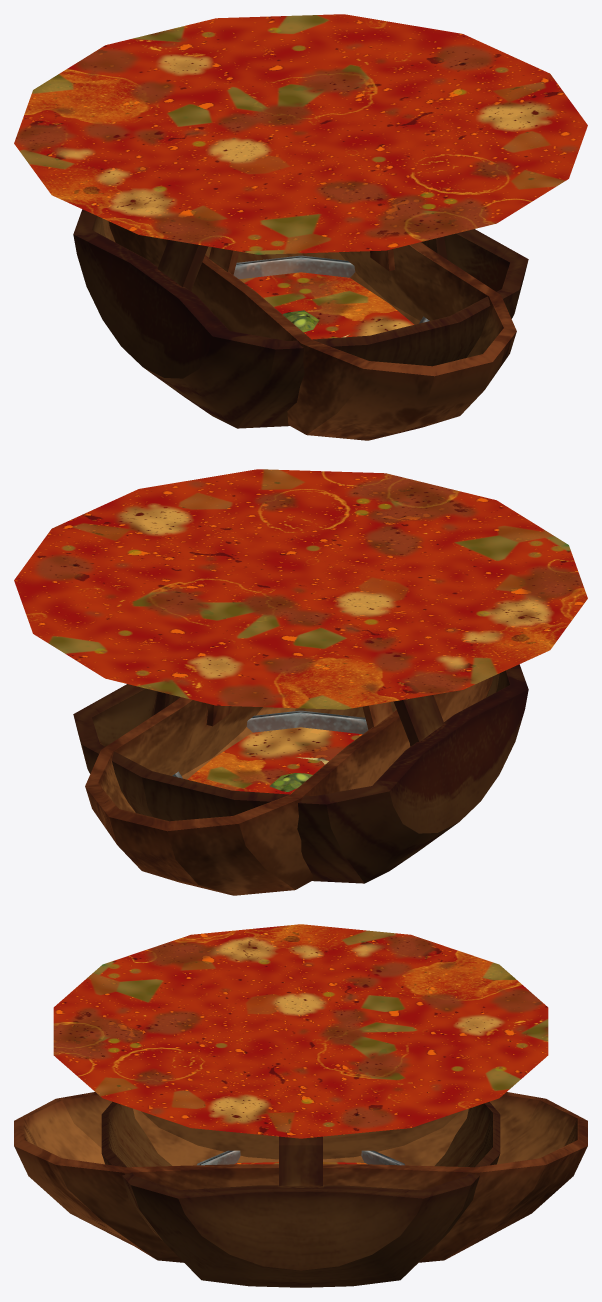
File: SM_Cluster_Kitchen_07.fbx
The picture shows the model from 3 angles, top to bottom: view 1: azimuth 30°, elevation 25°; view 2: azimuth 150°, elevation 25°; view 3: azimuth 270°, elevation 25°; orthographic projection. The views are drawn at different scales.
Parts seen in each view (by area): view 1: Food_Pot1, Basket2_Low, Basket_Low, Food_Dish3, Dish_Low; view 2: Food_Pot1, Basket2_Low, Basket_Low, Food_Dish3, Dish_Low; view 3: Food_Pot1, Basket_Low, Basket2_Low, Dish_Low.
Boxes of the visible parts, <box> form: Food_Pot1: <box>14,14,587,254</box>; Basket2_Low: <box>73,209,528,428</box>; Basket_Low: <box>109,221,516,440</box>; Food_Dish3: <box>239,272,414,339</box>; Dish_Low: <box>233,255,429,323</box>; Food_Pot1: <box>14,469,587,709</box>; Basket2_Low: <box>73,664,528,883</box>; Basket_Low: <box>85,676,492,895</box>; Food_Dish3: <box>187,727,362,794</box>; Dish_Low: <box>172,710,368,778</box>; Food_Pot1: <box>53,924,548,1138</box>; Basket_Low: <box>14,1092,587,1262</box>; Basket2_Low: <box>101,1101,500,1287</box>; Dish_Low: <box>197,1150,404,1165</box>.
Bounding box in the file's own units: 58.01 × 26.88 × 65.59.
